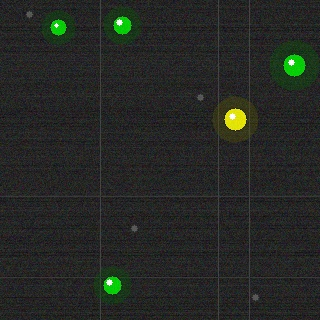green_normal: (281, 52, 307, 78), (101, 274, 123, 296), (111, 14, 133, 36), (48, 17, 68, 37)
yellow_warning: (222, 106, 248, 132)
